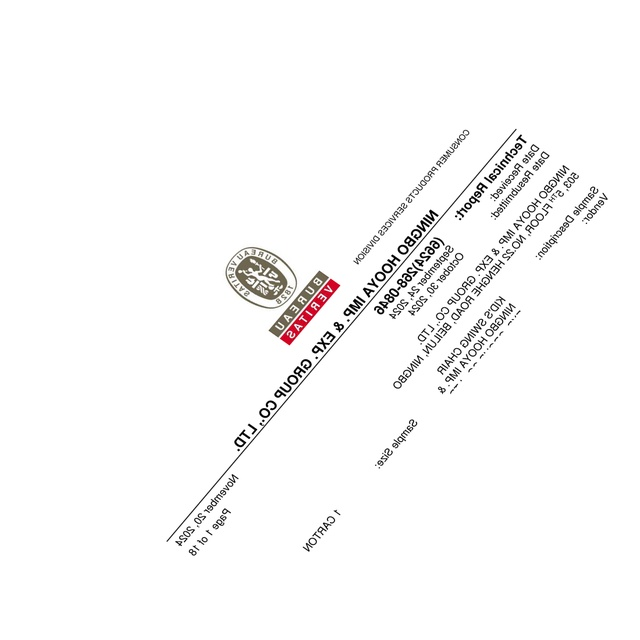bureau_veritas: (223, 244, 340, 345)
